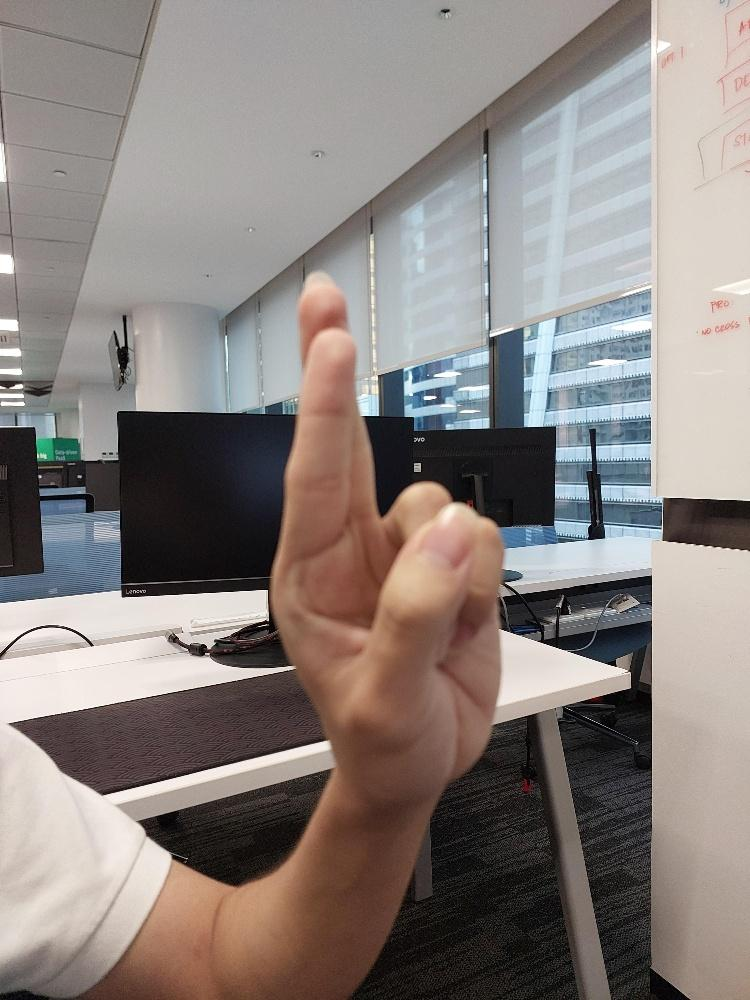r: (266, 269, 506, 799)
